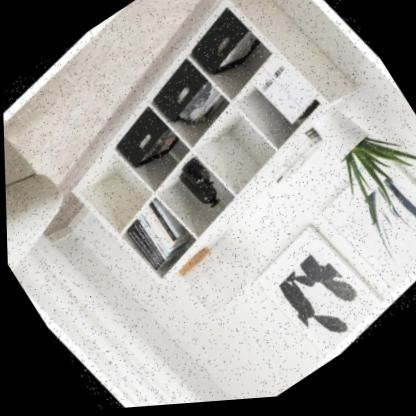Shelf: (14, 0, 409, 325)
